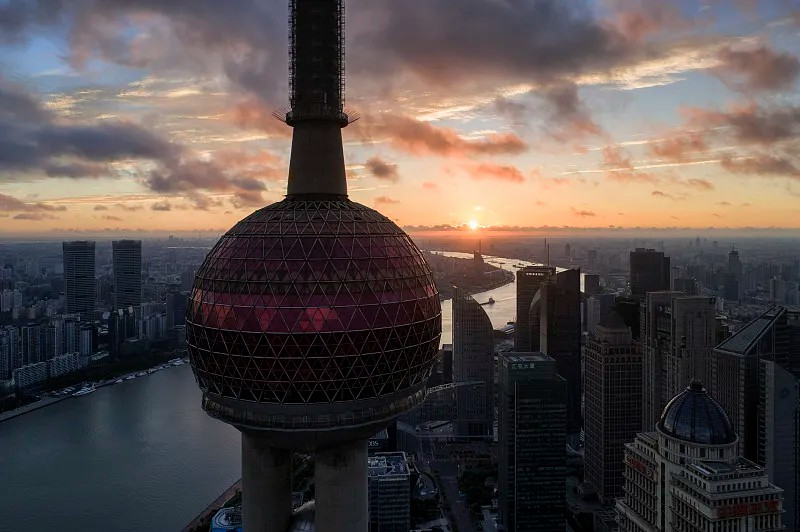Oriental: (184, 1, 442, 532)
